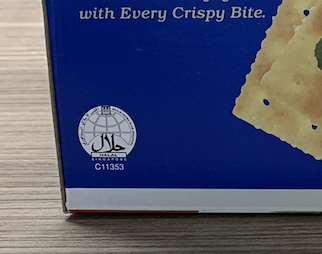halal: (84, 109, 134, 159)
